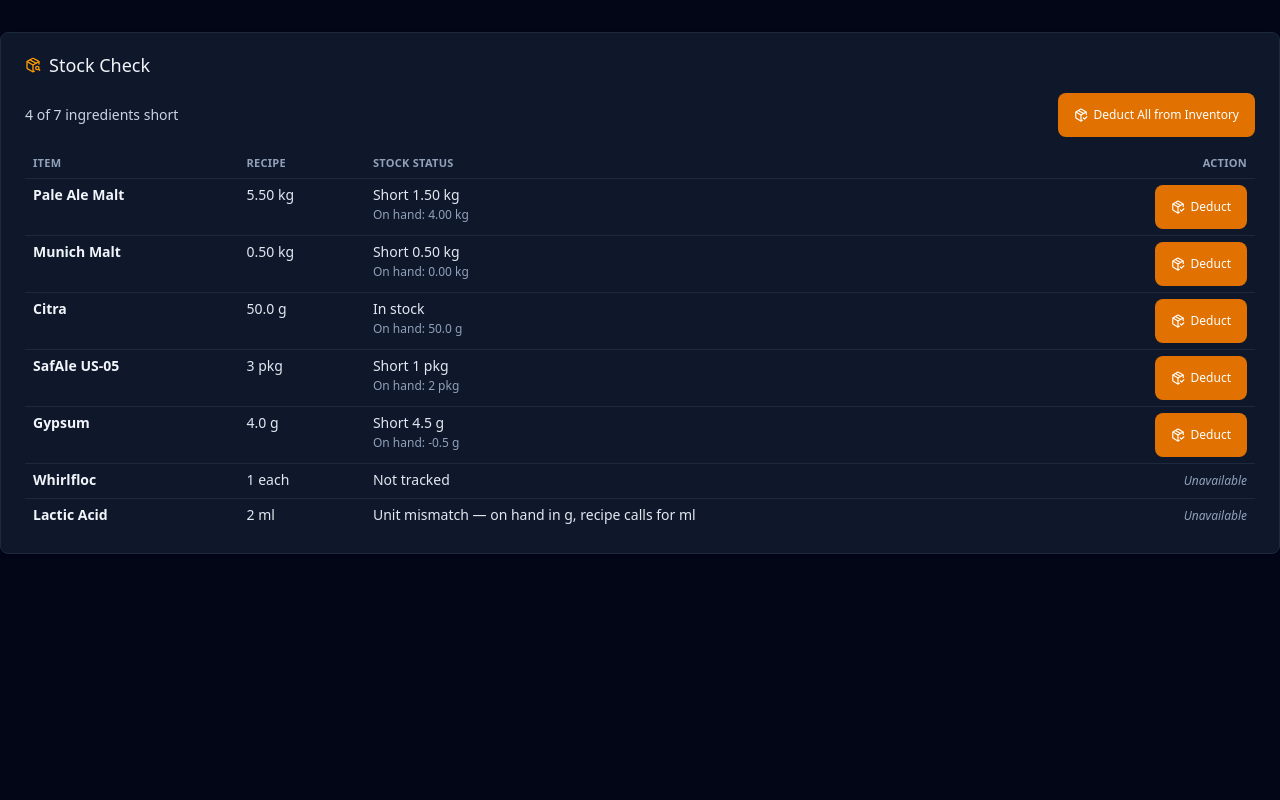
it: AC-11/AC-12 (facet): a failed toggle leaves no phantom state › a 409 on Deduct renders inline and leaves the row byte-identical
Expected: the text "4 of 7 ingredients short" is shown, 25,105 -> 178,125
Click the button with test id "stock-check-deduct-pale ale malt". click: (1201, 206)
box: 1155,184 -> 1247,228
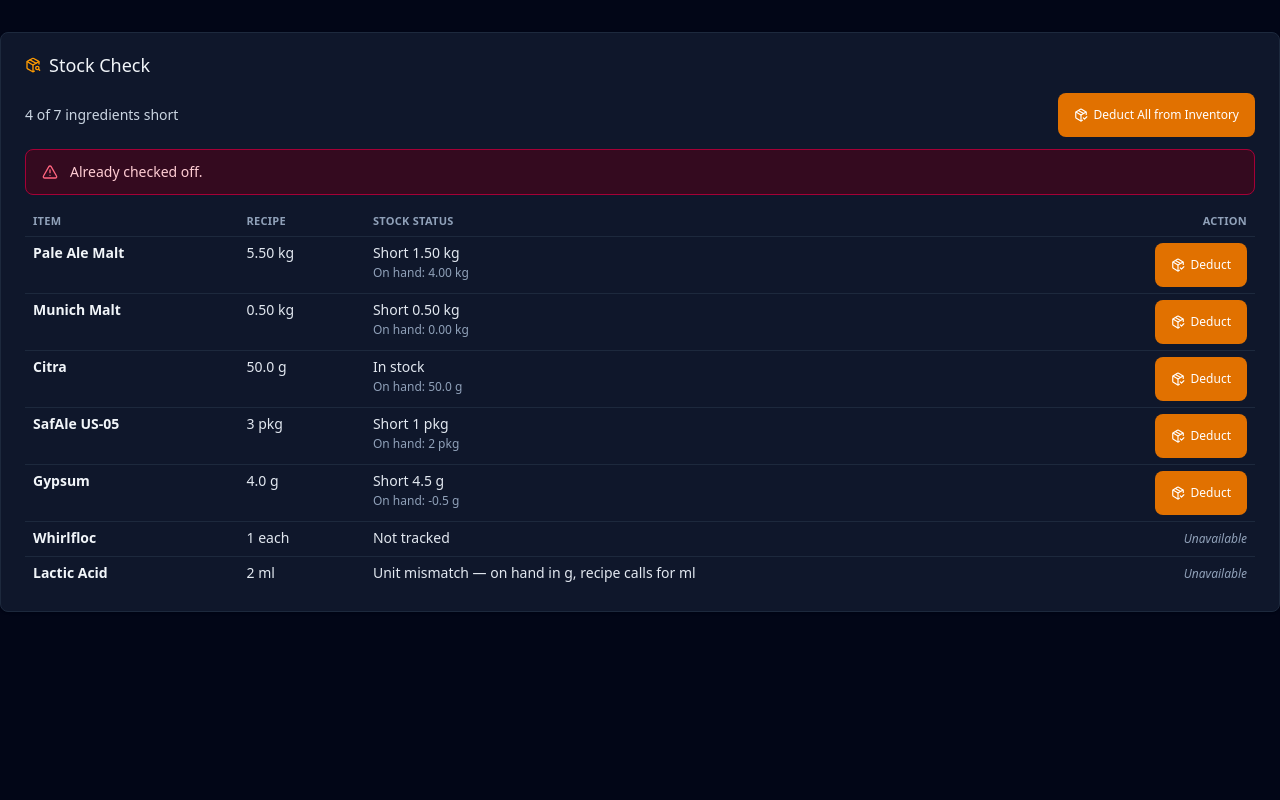
Expected: the text with test id "stock-check-header" reads "4 of 7 ingredients short", 25,105 -> 178,125
Expected: the element with test id "stock-check-toggle-error" is shown, 25,149 -> 1255,195
Expected: the element with test id "stock-check-toggle-error" reads "Already checked off.", 70,162 -> 202,181
